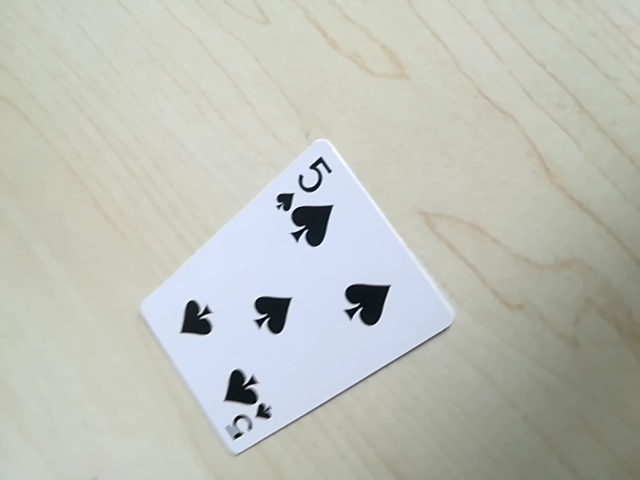ht 5: (273, 152, 333, 213), (217, 397, 274, 452)
